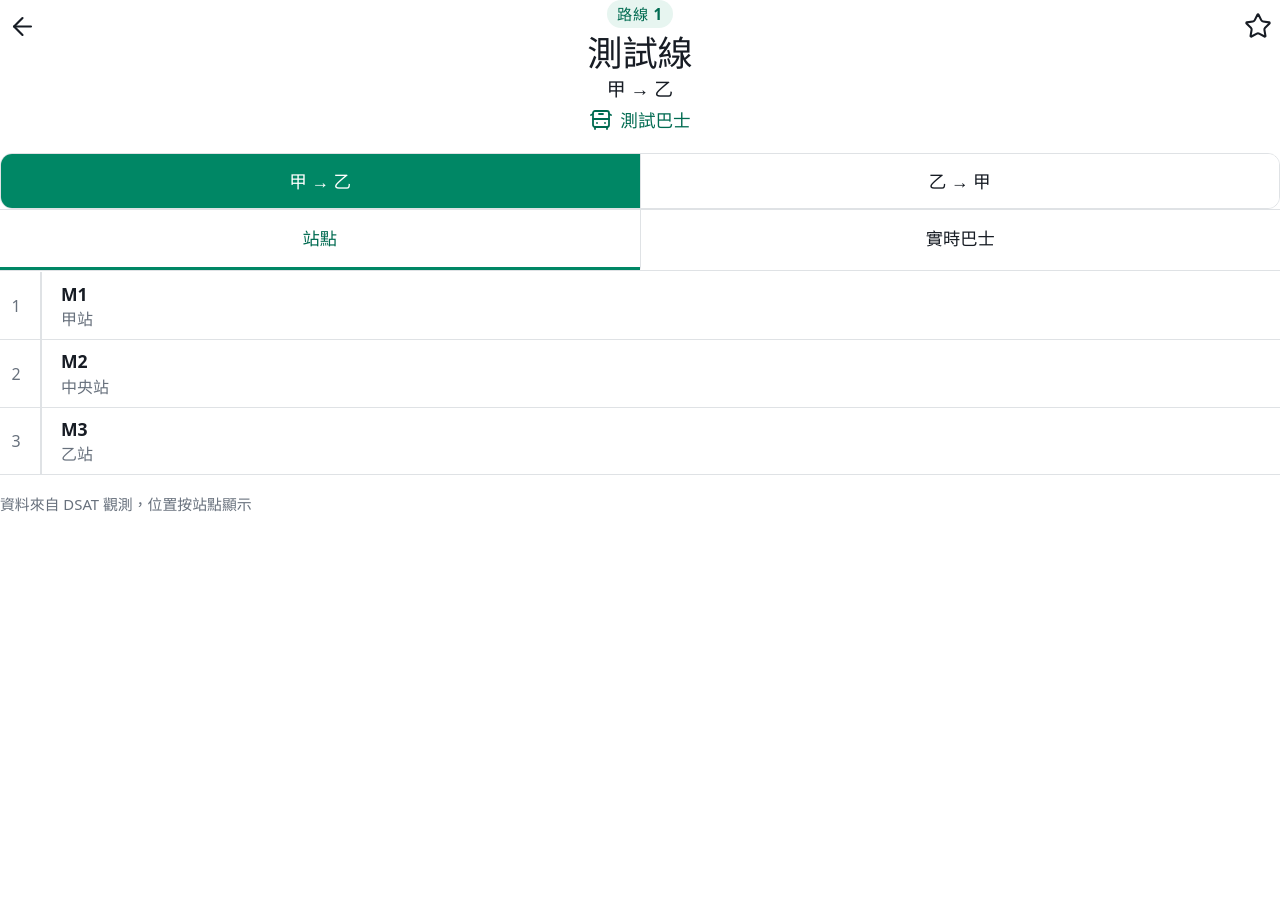
Test case: RoutePage › opens the reminder sheet from a stop and uses the saved default lead count
Click the button with aria-label "設定 甲站 到站提醒" at (77, 319), box [0,273,1279,340]
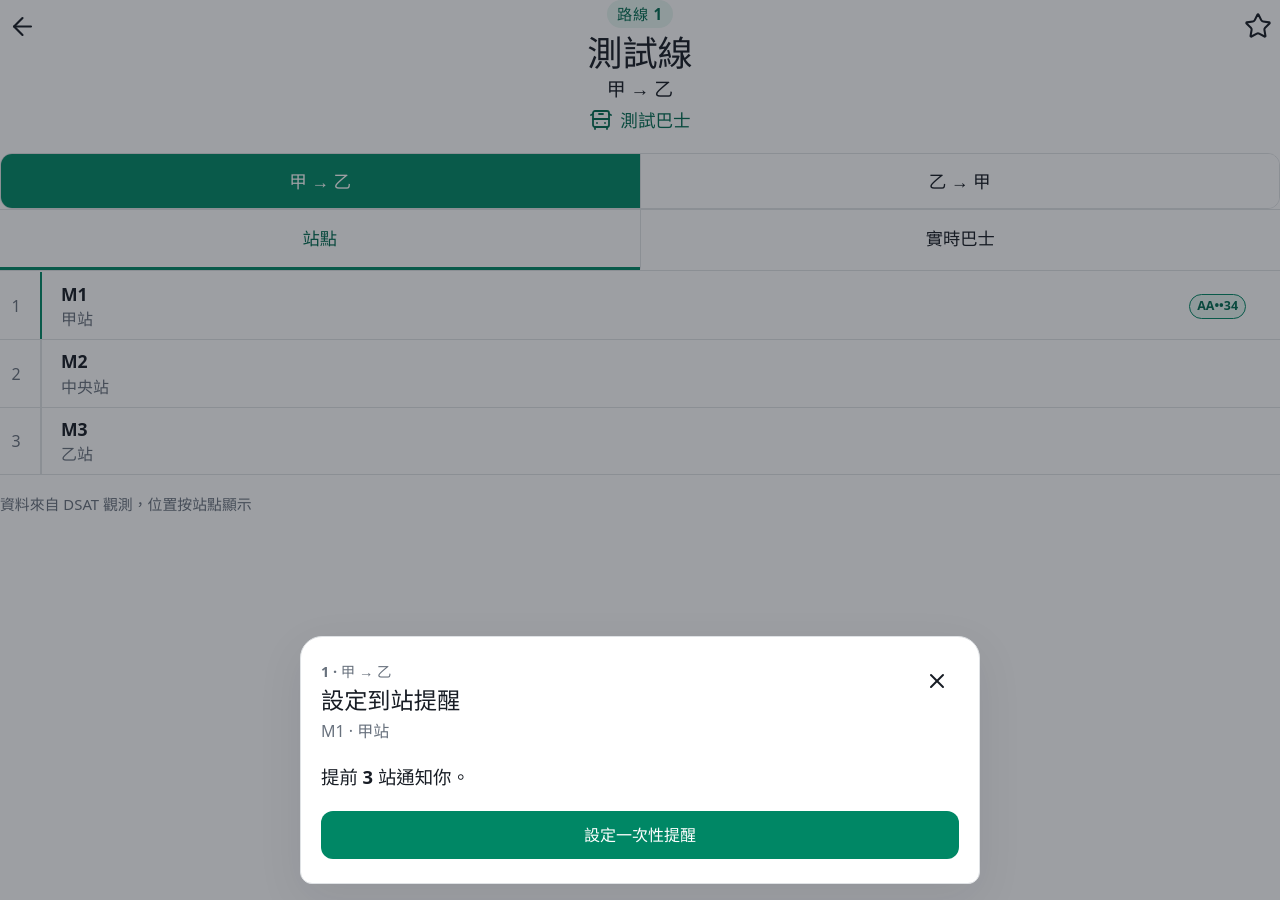
Expected: the dialog "設定到站提醒" is shown, [300,636,980,884]
Expected: the text "提前 3 站" is shown, [321,764,396,789]
